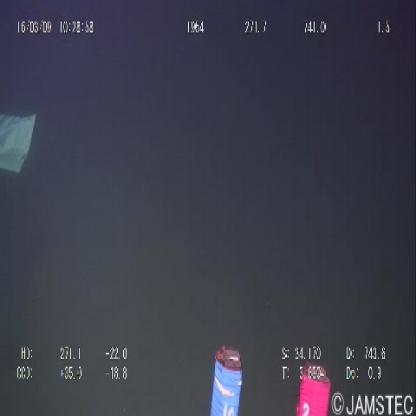Rác: (1, 117, 41, 182)
